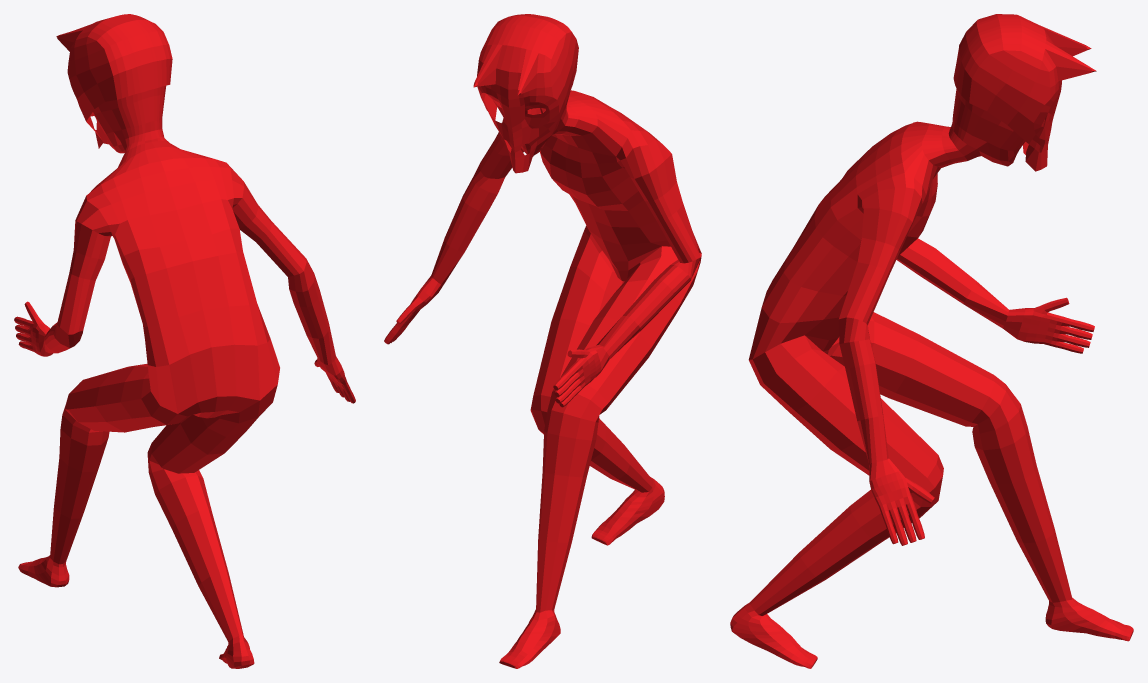
The model's file is saltoadelanteE_000137.obj.
The picture shows the model from 3 angles, left to right: view 1: azimuth 30°, elevation 25°; view 2: azimuth 150°, elevation 25°; view 3: azimuth 270°, elevation 25°; orthographic projection. The views are drawn at different scales.
Parts seen in each view (by area): view 1: Plane.002_Plane.001; view 2: Plane.002_Plane.001; view 3: Plane.002_Plane.001.
Part boxes in pixels (x1,y1,x2,y2): Plane.002_Plane.001: [14, 14, 355, 668]; Plane.002_Plane.001: [384, 14, 701, 668]; Plane.002_Plane.001: [730, 14, 1133, 668].
Size of the model in its own units: 2.98 by 5.54 by 3.19.
